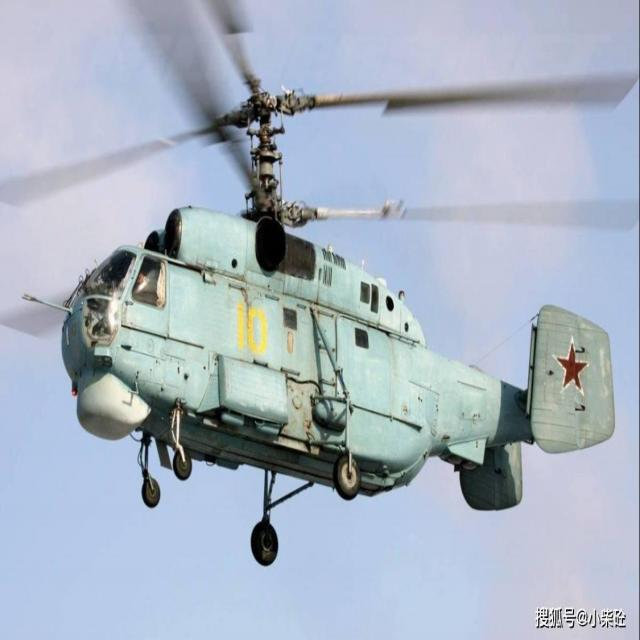MIL_HELO: (9, 0, 639, 575)
